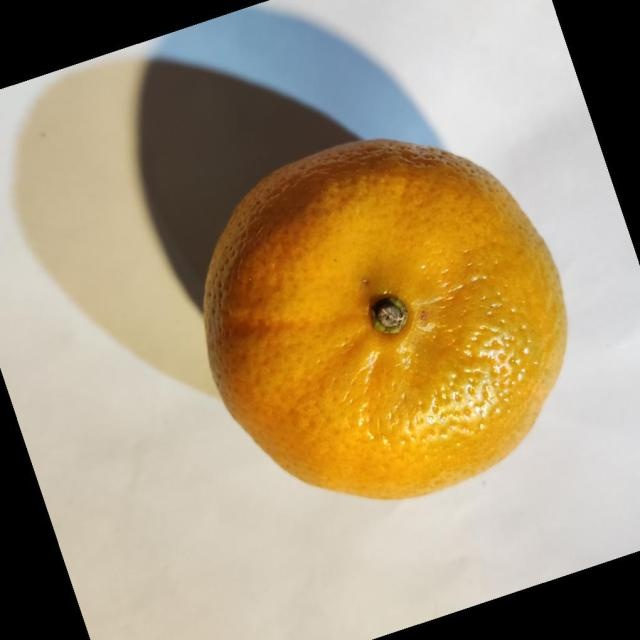agrume: (201, 137, 568, 500)
